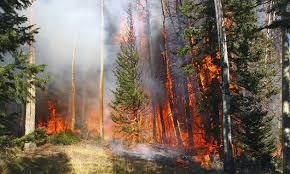fire: (146, 23, 238, 164), (35, 78, 116, 136), (37, 99, 77, 134)
